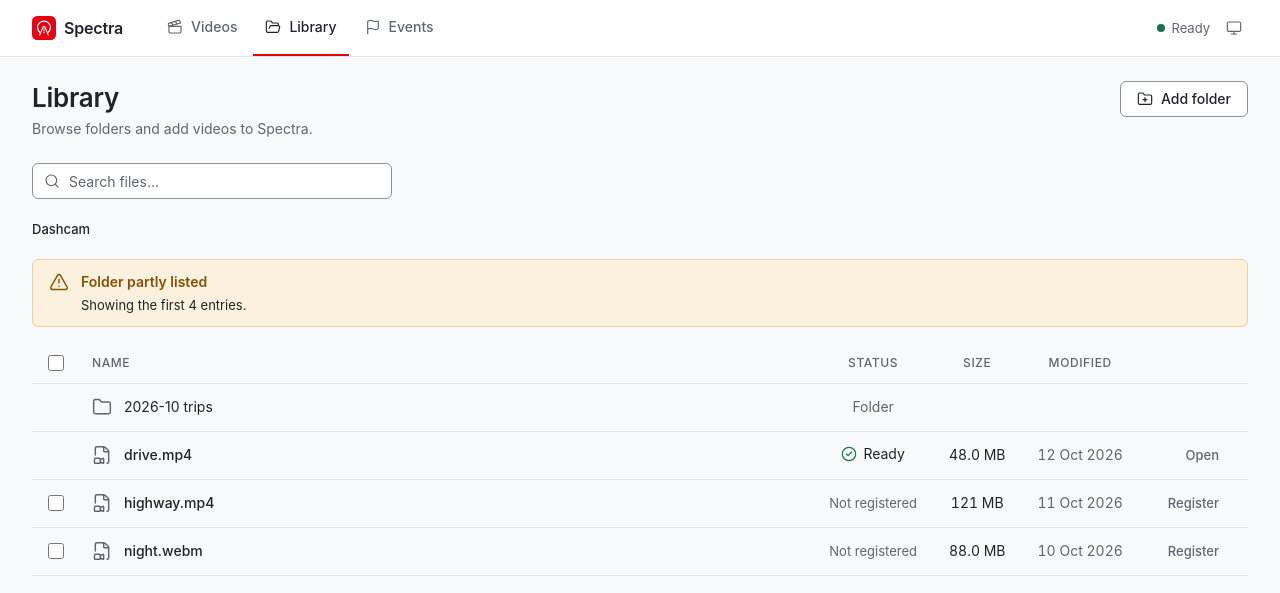
library browsing › filters the folder by name and warns about truncated listings
Expected: the text "Folder partly listed" is shown, [81,273,207,290]
Type "night" into the search field named "Filter this folder". click: (212, 181)
box: [32,163,392,199]
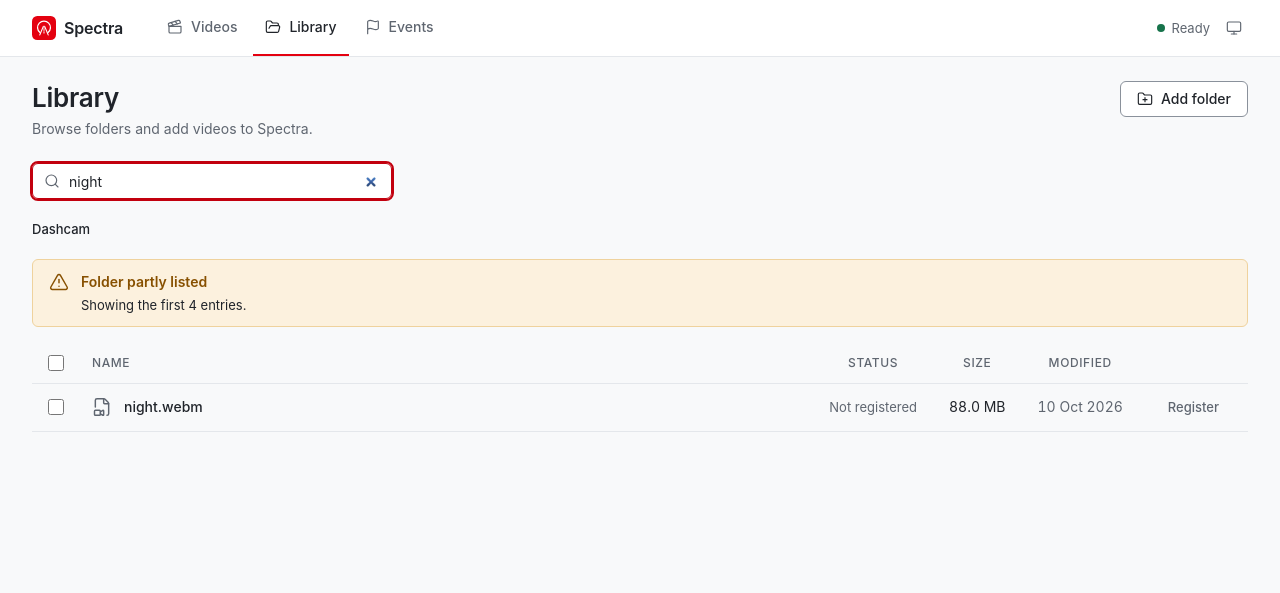
Expected: the number of rows is 2, [32,343,1248,383]; [32,383,1248,431]
